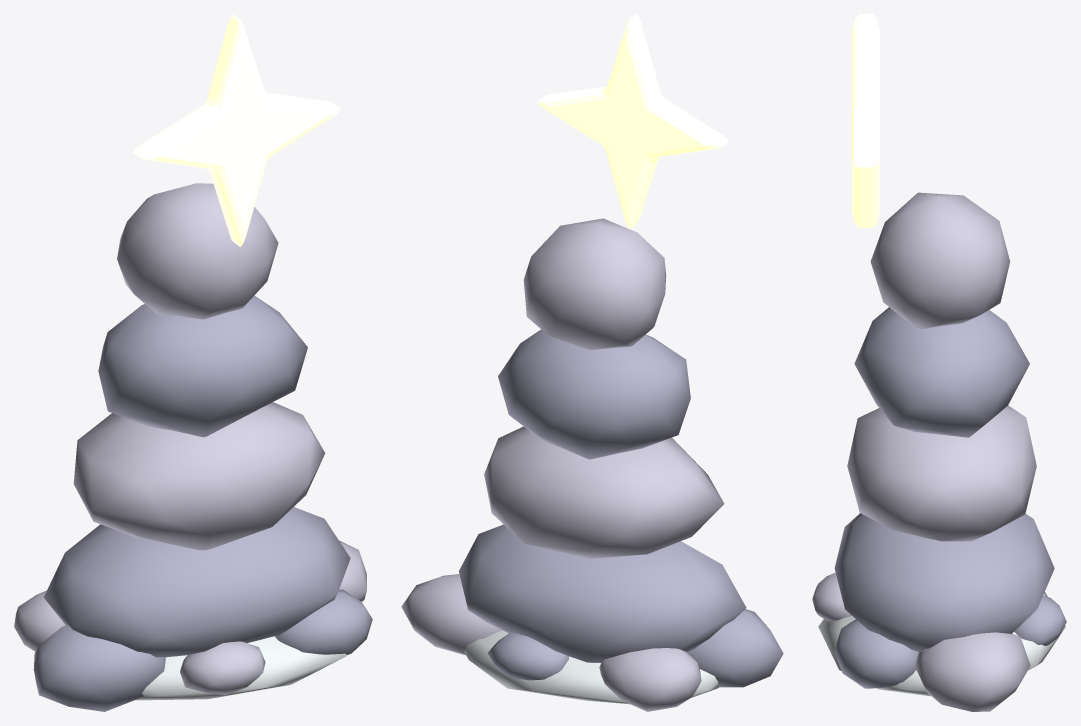
File: lagoon_alpine_cairn.glb
3 views of the same model, side by side, from view 1: azimuth 30°, elevation 25°; view 2: azimuth 150°, elevation 25°; view 3: azimuth 270°, elevation 25° (orthographic). The views are drawn at different scales.
Visible parts, largest first — view 1: lagoon_alpine_cairn.001; view 2: lagoon_alpine_cairn.001; view 3: lagoon_alpine_cairn.001.
Part boxes in pixels (x1,y1,x2,y2): lagoon_alpine_cairn.001: (14, 14, 372, 711); lagoon_alpine_cairn.001: (401, 14, 783, 711); lagoon_alpine_cairn.001: (812, 14, 1066, 711).
Size of the model in its own units: 2.51 by 4.51 by 1.63.
